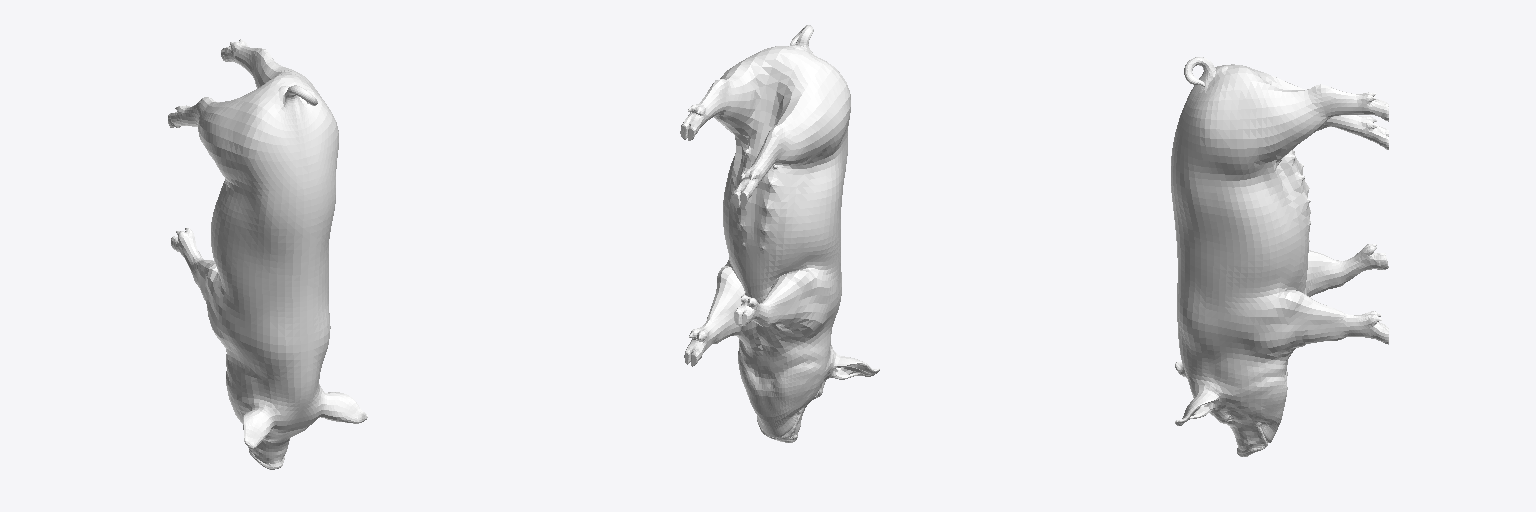
File: pig.obj
3 views of the same model, side by side, from view 1: azimuth 30°, elevation 25°; view 2: azimuth 150°, elevation 25°; view 3: azimuth 270°, elevation 25° (orthographic).
Visible parts, largest first — view 1: Object.1; view 2: Object.1; view 3: Object.1.
Boxes of the visible parts, x1,y1,x2,y2 form: Object.1: [168, 39, 367, 469]; Object.1: [680, 25, 879, 442]; Object.1: [1171, 57, 1388, 456].
Size of the model in its own units: 1 by 3.17 by 1.58.